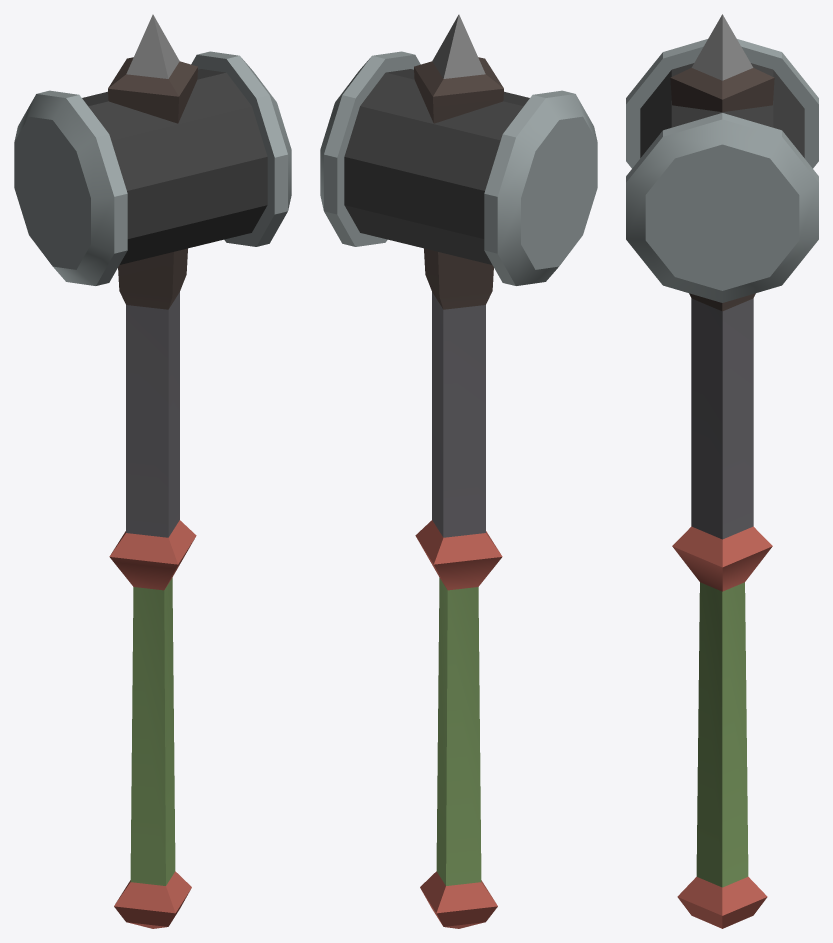
The model's file is Mace_7.fbx.
3 views of the same model, side by side, from view 1: azimuth 30°, elevation 25°; view 2: azimuth 150°, elevation 25°; view 3: azimuth 270°, elevation 25° (orthographic).
Parts seen in each view (by area): view 1: polySurface247; view 2: polySurface247; view 3: polySurface247.
Boxes of the visible parts, x1,y1,x2,y2 form: polySurface247: [14, 14, 291, 928]; polySurface247: [320, 14, 597, 928]; polySurface247: [626, 14, 818, 928].
Bounding box in the file's own units: 52.27 × 228 × 43.53.
